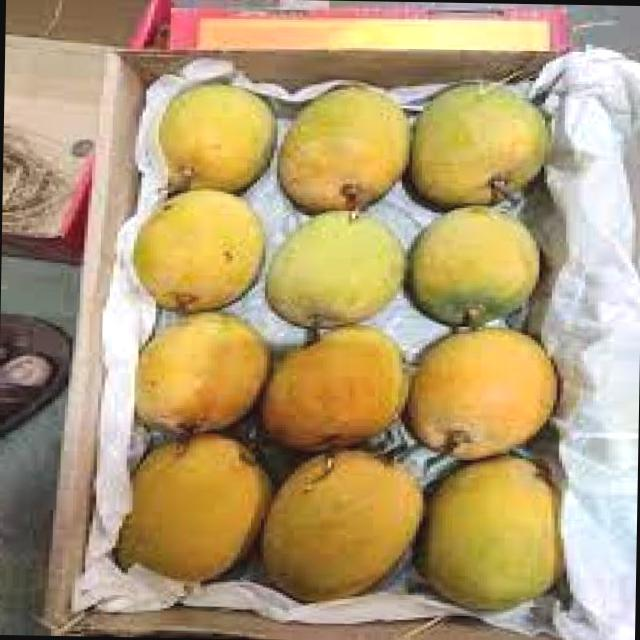Mango: (256, 443, 423, 608), (415, 452, 566, 614), (117, 428, 270, 584), (402, 328, 562, 466), (261, 326, 409, 456), (407, 82, 550, 210), (275, 84, 407, 218), (130, 309, 267, 438), (262, 214, 412, 329), (126, 188, 264, 308), (403, 210, 539, 330), (153, 85, 278, 191)
